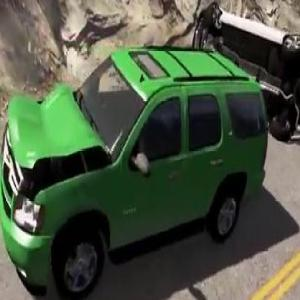fatal: (191, 0, 300, 150)
